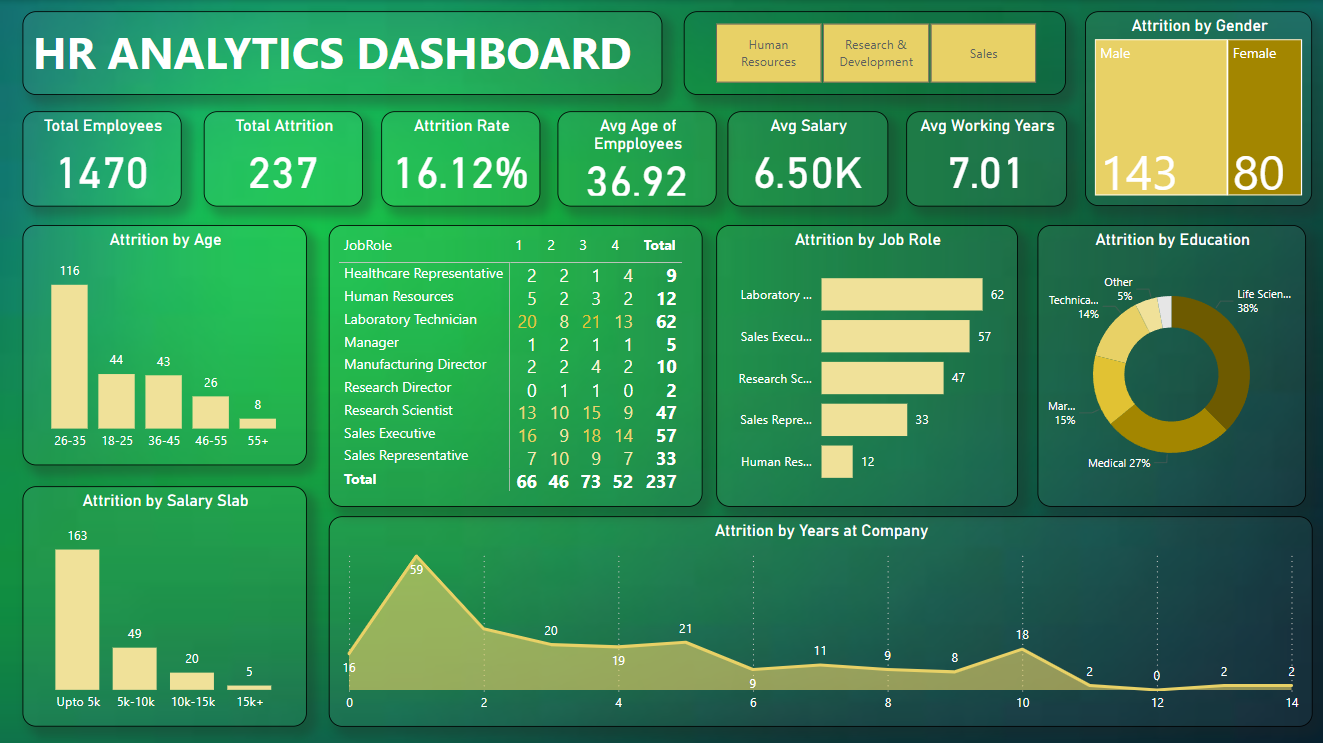

What the dashboard file says about the page in this screenshot:
{"tool":"powerbi","page":{"name":"Page 1","canvas":[1280,720],"ordinal":0},"visuals":[{"type":"card","title":"Total Employees","fields":{"Values":["CountNonNull(HR_Analytics.EmpID)"]},"box":[22,107,153.7,91.9],"z":0},{"type":"card","title":"Avg Age of Empployees","fields":{"Values":["Avg(HR_Analytics.Age)"]},"box":[537.9,107,153.7,91.9],"z":1000},{"type":"card","title":"Attrition Rate","fields":{"Values":["HR_Analytics.AttritionRare"]},"box":[367.8,107,153.7,91.9],"z":2000},{"type":"card","title":"Total Attrition","fields":{"Values":["Sum(HR_Analytics.Attrition Count)"]},"box":[196.2,107,153.7,91.9],"z":3000},{"type":"card","title":"Avg Working Years","fields":{"Values":["Avg(HR_Analytics.YearsAtCompany)"]},"box":[874.1,107,155.1,91.9],"z":4000},{"type":"card","title":"Avg Salary ","fields":{"Values":["Avg(HR_Analytics.MonthlyIncome)"]},"box":[702.6,107,155.1,91.9],"z":5000},{"type":"donutChart","title":"Attrition by Education","fields":{"Category":["HR_Analytics.EducationField"],"Y":["Sum(HR_Analytics.Attrition Count)"]},"box":[1001.7,216.8,259.3,271.7],"z":6000},{"type":"columnChart","title":"Attrition by Age","fields":{"Category":["HR_Analytics.AgeGroup"],"Y":["Sum(HR_Analytics.Attrition Count)"]},"box":[22,216.8,274.4,231.9],"z":7000},{"type":"pivotTable","fields":{"Rows":["HR_Analytics.JobRole"],"Columns":["HR_Analytics.JobSatisfaction"],"Values":["Sum(HR_Analytics.Attrition Count)"]},"box":[317,216.8,360.9,271.7],"z":8000},{"type":"columnChart","title":"Attrition by Salary Slab","fields":{"Category":["HR_Analytics.SalarySlab"],"Y":["Sum(HR_Analytics.Attrition Count)"]},"box":[22,469.3,274.4,231.9],"z":9000},{"type":"barChart","title":"Attrition by Job Role","fields":{"Category":["HR_Analytics.JobRole"],"Y":["Sum(HR_Analytics.Attrition Count)"]},"box":[691.6,216.8,290.9,271.7],"z":10000},{"type":"areaChart","title":"Attrition by Years at Company","fields":{"Category":["HR_Analytics.YearsAtCompany"],"Y":["Sum(HR_Analytics.Attrition Count)"]},"box":[317,498.1,949.6,203.1],"z":11000},{"type":"treemap","title":"Attrition by Gender","fields":{"Group":["HR_Analytics.Gender"],"Values":["Sum(HR_Analytics.Attrition Count)"]},"box":[1047,11,219.6,188],"z":12000},{"type":"slicer","fields":{"Values":["HR_Analytics.Department"]},"box":[660,11,369.1,81],"z":13000},{"type":"textbox","box":[22,11,617.5,81],"z":14000}]}

Visuals, with their boxes in screenshot pixels (x1, y1, x2, y2), scaled from the page's 1280x720 canvas onto the 1323x743 screenshot:
"Total Employees" card: [left=23, top=110, right=182, bottom=205]
"Avg Age of Empployees" card: [left=556, top=110, right=715, bottom=205]
"Attrition Rate" card: [left=380, top=110, right=539, bottom=205]
"Total Attrition" card: [left=203, top=110, right=362, bottom=205]
"Avg Working Years" card: [left=903, top=110, right=1064, bottom=205]
"Avg Salary " card: [left=726, top=110, right=887, bottom=205]
"Attrition by Education" donutChart: [left=1035, top=224, right=1303, bottom=504]
"Attrition by Age" columnChart: [left=23, top=224, right=306, bottom=463]
pivotTable - HR_Analytics.JobRole x HR_Analytics.JobSatisfaction: [left=328, top=224, right=701, bottom=504]
"Attrition by Salary Slab" columnChart: [left=23, top=484, right=306, bottom=724]
"Attrition by Job Role" barChart: [left=715, top=224, right=1016, bottom=504]
"Attrition by Years at Company" areaChart: [left=328, top=514, right=1309, bottom=724]
"Attrition by Gender" treemap: [left=1082, top=11, right=1309, bottom=205]
slicer - HR_Analytics.Department: [left=682, top=11, right=1064, bottom=95]
textbox: [left=23, top=11, right=661, bottom=95]
